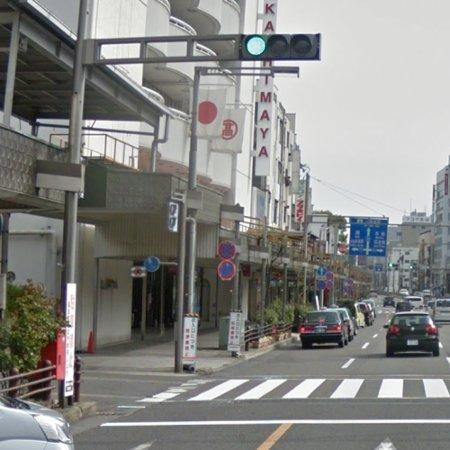crosswalks: (189, 380, 450, 402)
